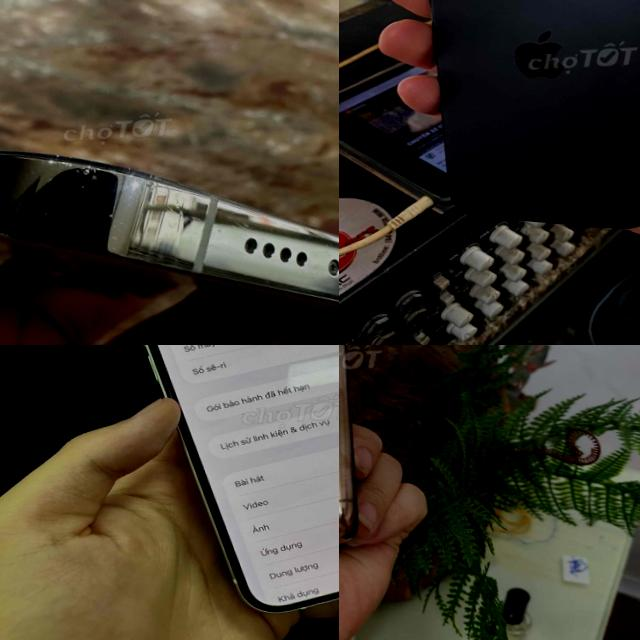gen_11: (339, 345, 372, 570)
gen_14: (0, 104, 339, 345), (100, 345, 339, 615)
gen_15: (413, 0, 640, 241)
scratch: (0, 145, 135, 258), (116, 164, 228, 280)
